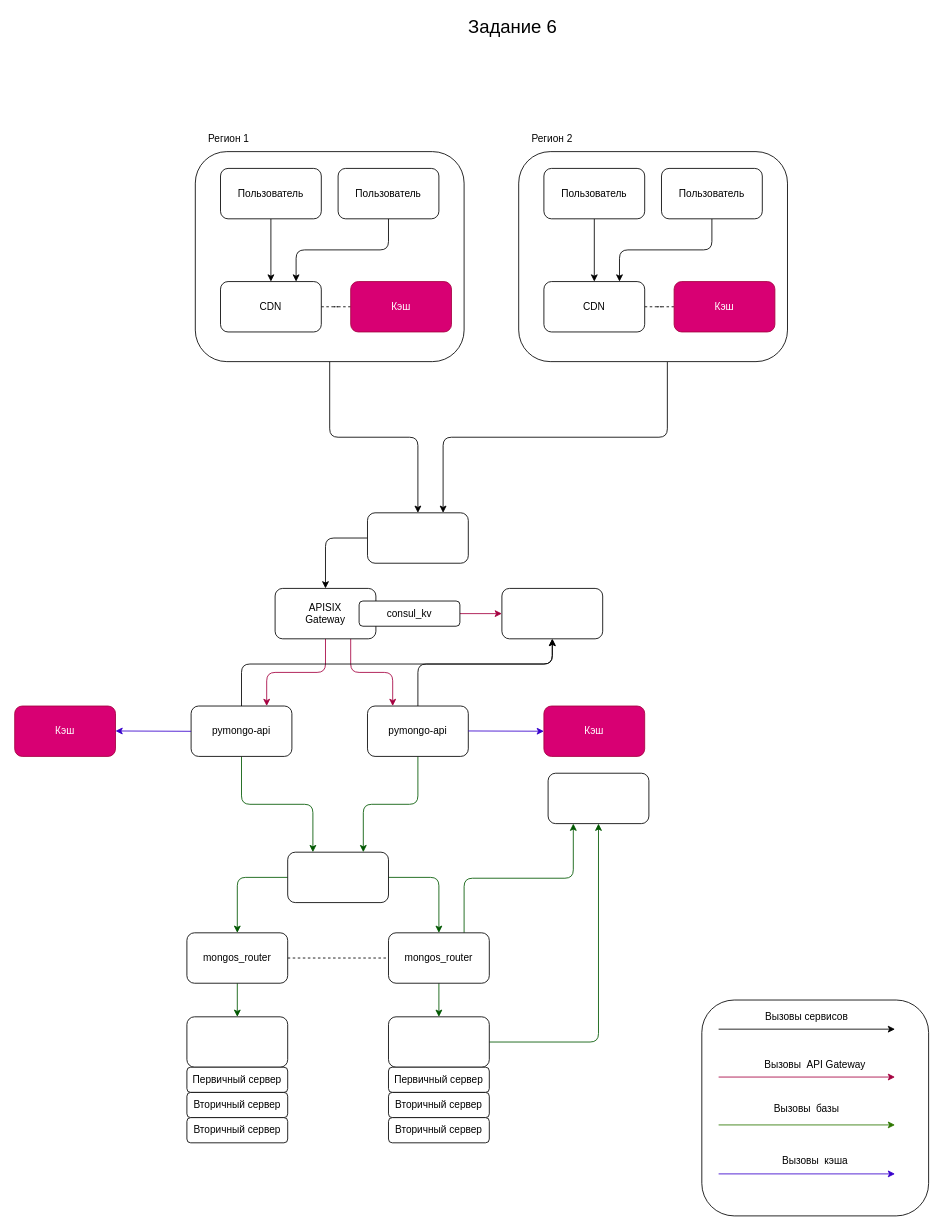
The diagram is 943 pixels wide and 1231 high, and some of its shapes have lost their labels. Each missing label, with the box of its shape:
configSrv: (547, 772, 649, 824)
Consul: (501, 588, 603, 639)
nginx: (367, 512, 468, 563)
shard1-1: (186, 1016, 288, 1067)
shard1-2: (388, 1016, 489, 1067)
Драйвер: (287, 851, 388, 903)
